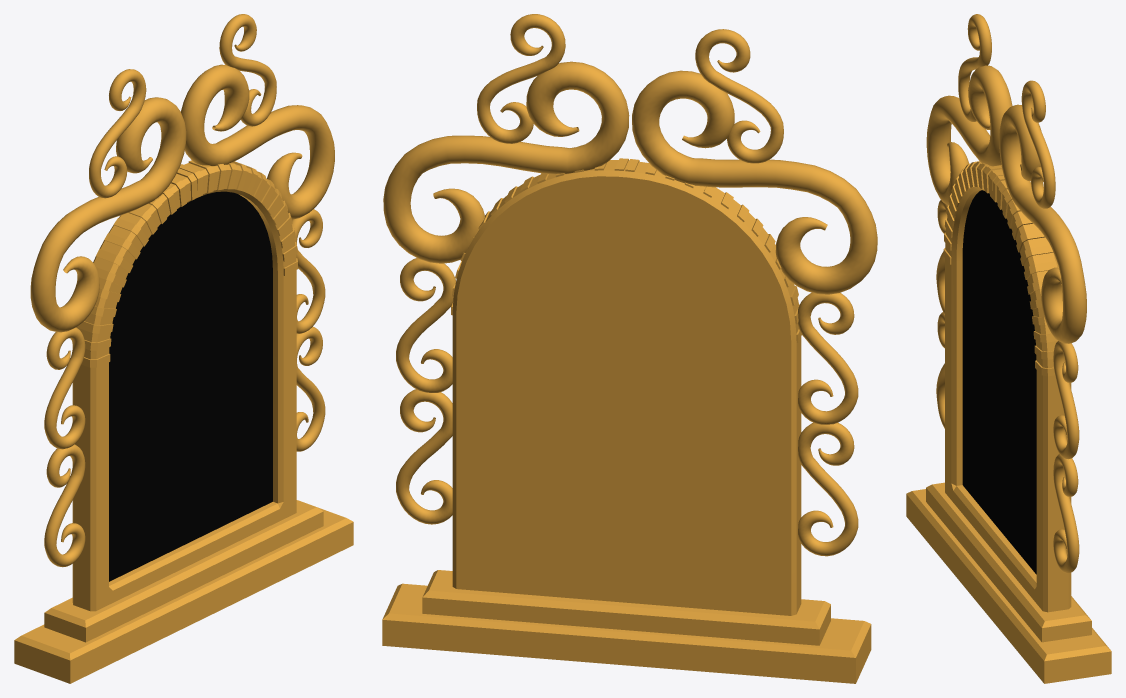
Rendered from Magic Mirror.glb.
The picture shows the model from 3 angles, left to right: view 1: azimuth 30°, elevation 25°; view 2: azimuth 150°, elevation 25°; view 3: azimuth 270°, elevation 25°; orthographic projection. The views are drawn at different scales.
Parts seen in each view (by area): view 1: Plane, Cube.001, Spiral.001, Spiral, Cube, Spiral.007, Spiral.005, Spiral.004, Spiral.006, Spiral.003, Spiral.002; view 2: Plane, Cube.001, Spiral.001, Spiral, Cube, Spiral.007, Spiral.006, Spiral.005, Spiral.004, Spiral.002, Spiral.003; view 3: Plane, Cube.001, Spiral, Spiral.001, Cube, Spiral.006, Spiral.002, Spiral.003, Spiral.007, Spiral.004, Spiral.005.
Boxes of the visible parts, left/top/right/bottom form: Plane: left=72, top=160, right=297, bottom=611; Cube.001: left=14, top=502, right=353, bottom=683; Spiral.001: left=30, top=97, right=186, bottom=332; Spiral: left=181, top=64, right=334, bottom=219; Cube: left=44, top=500, right=323, bottom=642; Spiral.007: left=89, top=69, right=146, bottom=198; Spiral.005: left=44, top=444, right=85, bottom=567; Spiral.004: left=44, top=327, right=85, bottom=449; Spiral.006: left=219, top=14, right=276, bottom=126; Spiral.003: left=296, top=326, right=325, bottom=451; Spiral.002: left=291, top=209, right=325, bottom=333; Plane: left=451, top=158, right=801, bottom=615; Cube.001: left=382, top=583, right=871, bottom=683; Spiral.001: left=632, top=70, right=877, bottom=294; Spiral: left=383, top=61, right=629, bottom=263; Cube: left=422, top=570, right=830, bottom=645; Spiral.007: left=695, top=29, right=783, bottom=163; Spiral.006: left=477, top=14, right=565, bottom=143; Spiral.005: left=798, top=422, right=858, bottom=556; Spiral.004: left=797, top=292, right=858, bottom=424; Spiral.002: left=396, top=258, right=455, bottom=392; Spiral.003: left=396, top=389, right=452, bottom=524; Plane: left=943, top=161, right=1071, bottom=612; Cube.001: left=906, top=489, right=1111, bottom=683; Spiral: left=999, top=104, right=1086, bottom=343; Spiral.001: left=926, top=65, right=1012, bottom=205; Cube: left=926, top=482, right=1091, bottom=642; Spiral.006: left=1021, top=80, right=1055, bottom=208; Spiral.002: left=1053, top=341, right=1079, bottom=459; Spiral.003: left=1053, top=454, right=1079, bottom=573; Spiral.007: left=958, top=14, right=991, bottom=121; Spiral.004: left=936, top=200, right=947, bottom=314; Spiral.005: left=936, top=312, right=944, bottom=428.
Bounding box in the file's own units: 1.3 × 1.86 × 0.6365.
